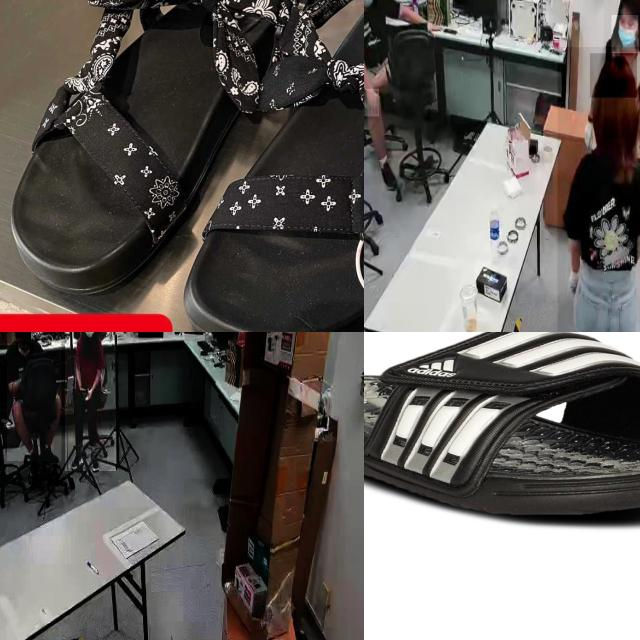Sandals: (0, 0, 364, 332), (364, 332, 640, 518)
face_mask: (612, 15, 638, 53)
face_nomask: (16, 332, 33, 355)
hand_noglove: (364, 89, 380, 117), (424, 16, 444, 35), (84, 385, 92, 401), (78, 386, 88, 392)
head_nohelmet: (590, 53, 638, 99), (617, 0, 640, 15)
person: (557, 47, 640, 332), (364, 0, 431, 168), (7, 332, 62, 462), (65, 332, 116, 471), (603, 0, 640, 138)
